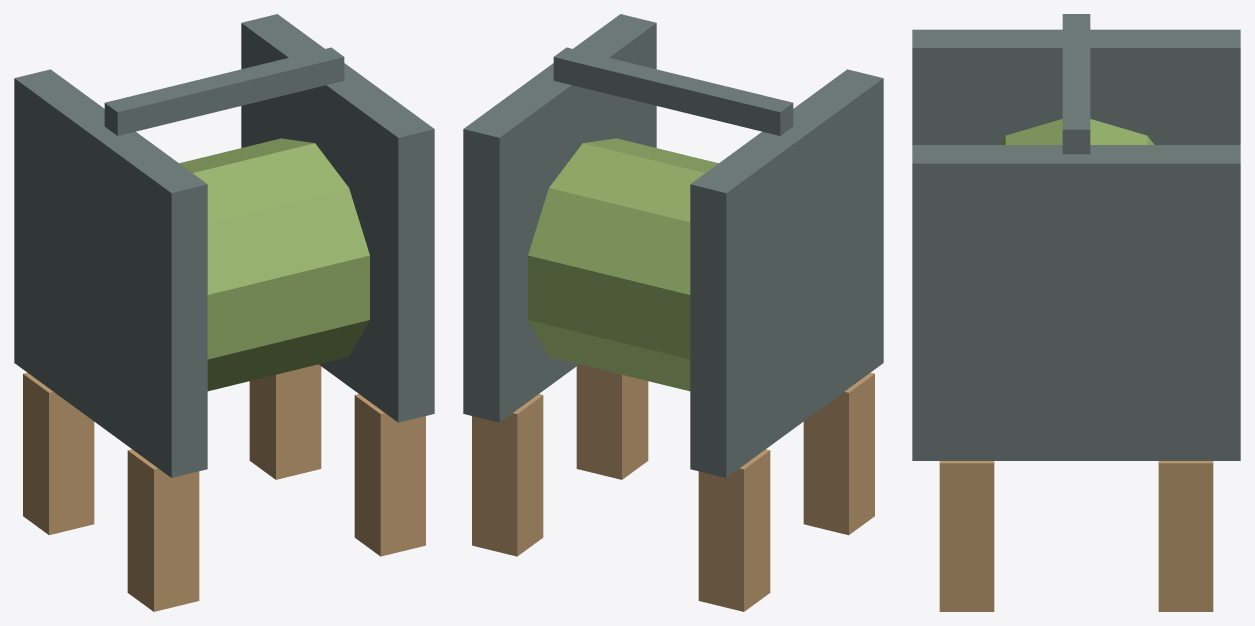
File: cozy-farm-and-homestead-hose-reel-ddb6554f__19408.glb
3 views of the same model, side by side, from view 1: azimuth 30°, elevation 25°; view 2: azimuth 150°, elevation 25°; view 3: azimuth 270°, elevation 25° (orthographic). The views are drawn at different scales.
Parts seen in each view (by area): view 1: hose-reel; view 2: hose-reel; view 3: hose-reel.
Boxes of the visible parts, left/top/right/bottom form: hose-reel: left=14, top=14, right=434, bottom=611; hose-reel: left=463, top=14, right=883, bottom=611; hose-reel: left=912, top=14, right=1240, bottom=611.
Size of the model in its own units: 0.6 by 0.95 by 0.6.
